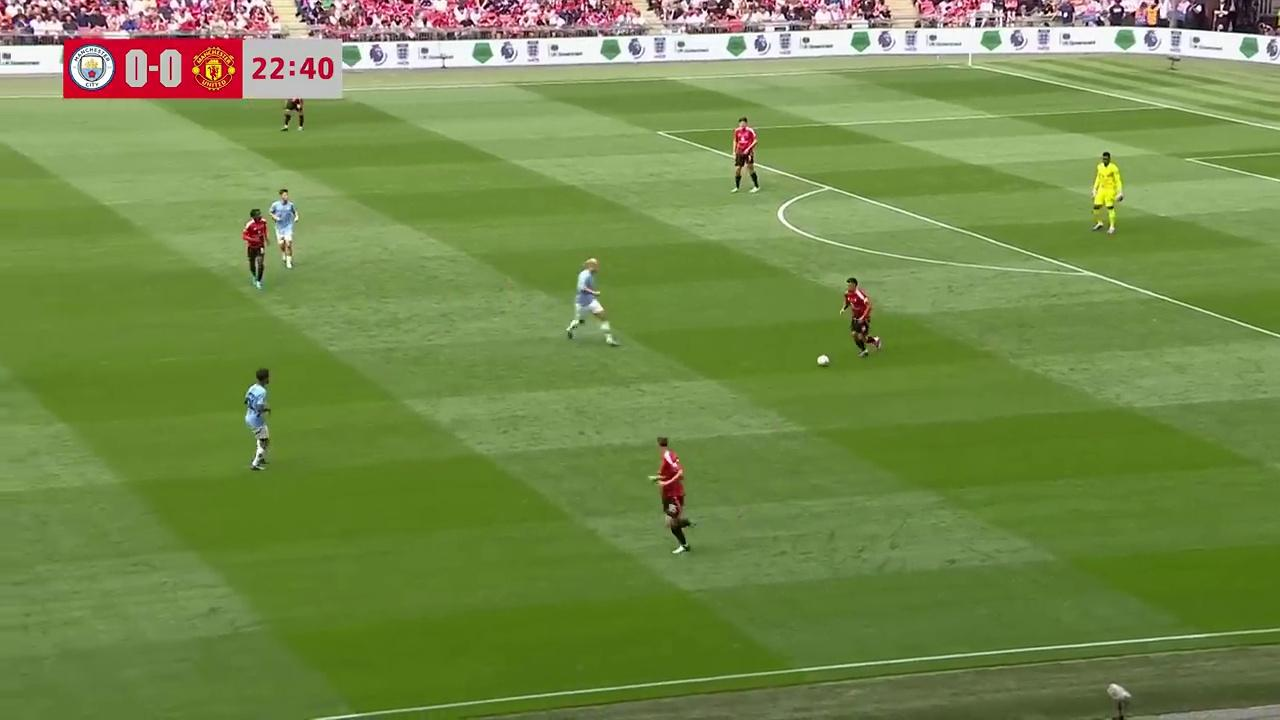ball: (814, 349, 831, 368)
player: (648, 437, 694, 554), (566, 256, 618, 344), (839, 277, 879, 358), (243, 368, 271, 471), (1091, 151, 1123, 235), (269, 187, 298, 267), (242, 208, 269, 290), (731, 116, 758, 193), (282, 92, 304, 131)
